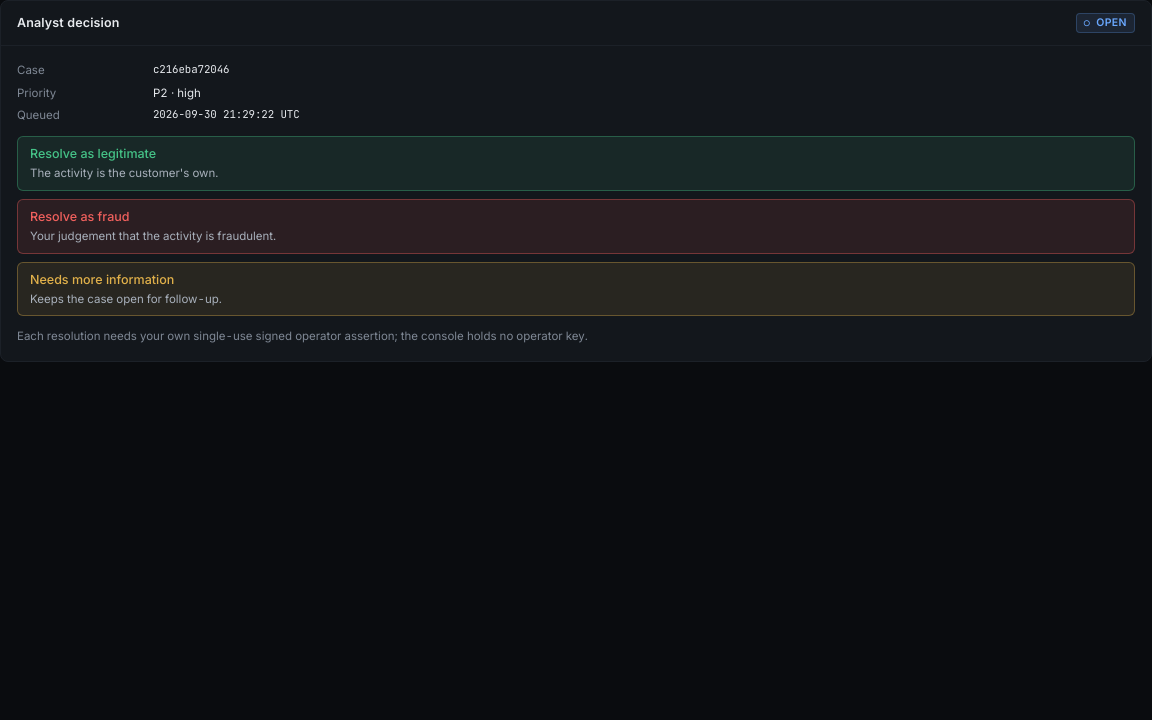
analyst decision › Esc cancels without sending anything
The width and height of the screenshot is (1152, 720).
Click the button with test id "resolve-legitimate" at (93, 154), box [17, 136, 1135, 191]
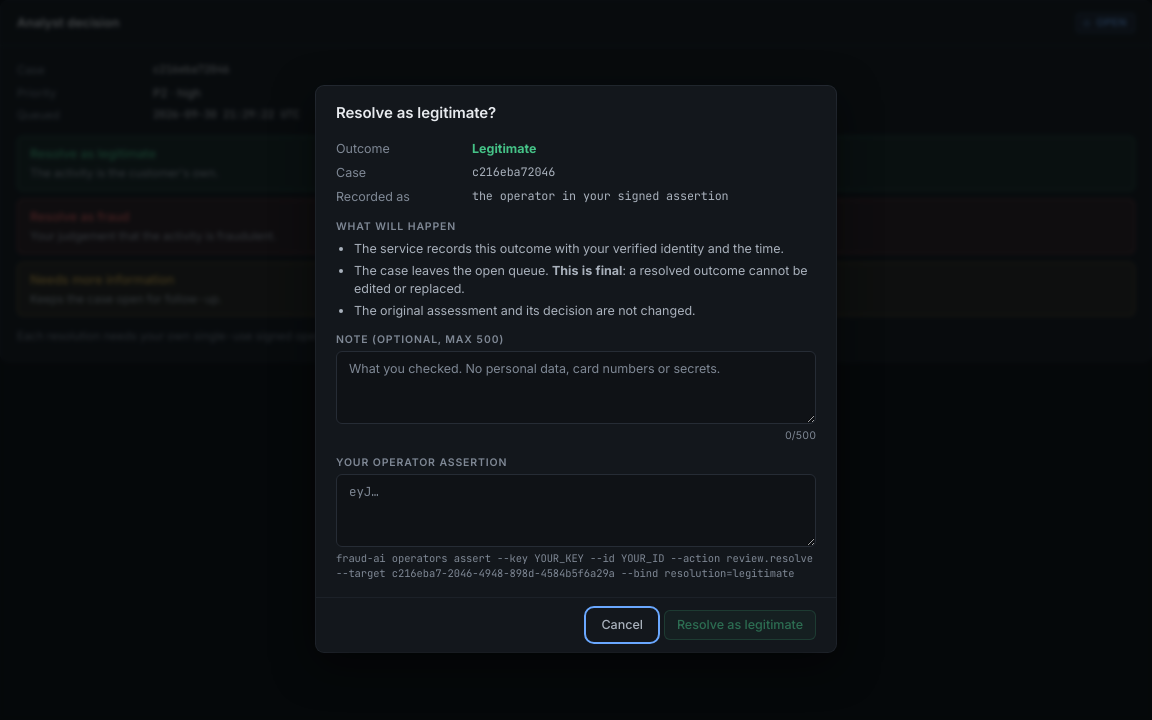
Press Escape
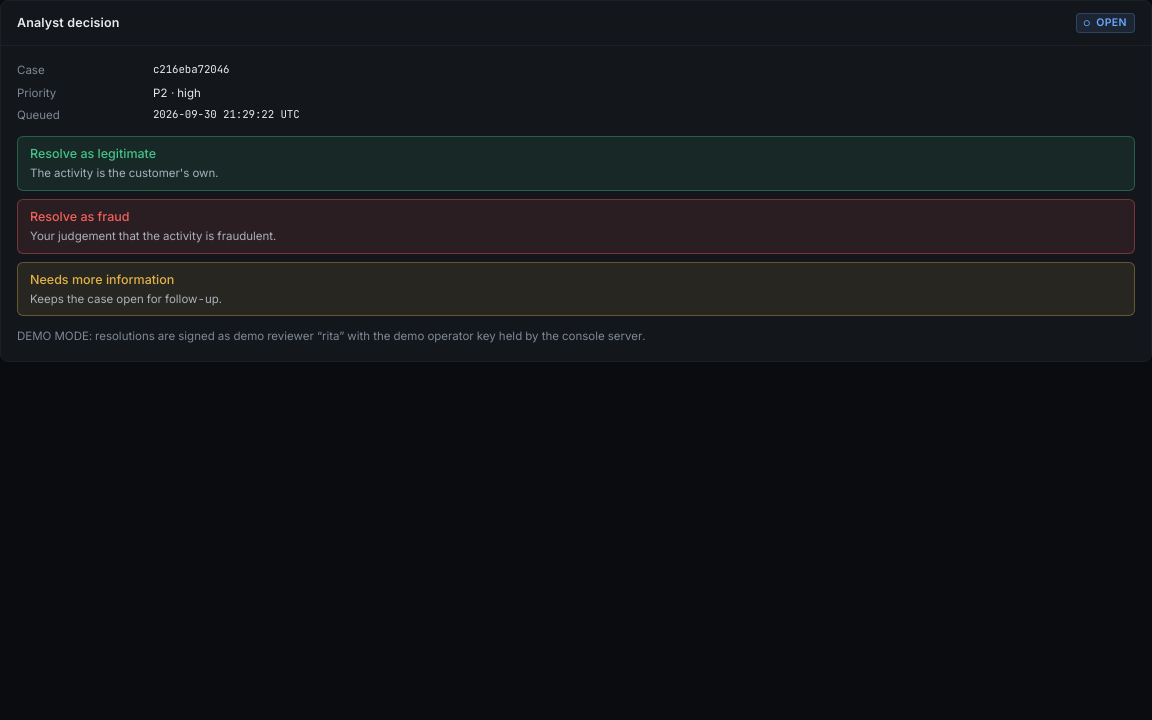
Result: the dialog is gone
